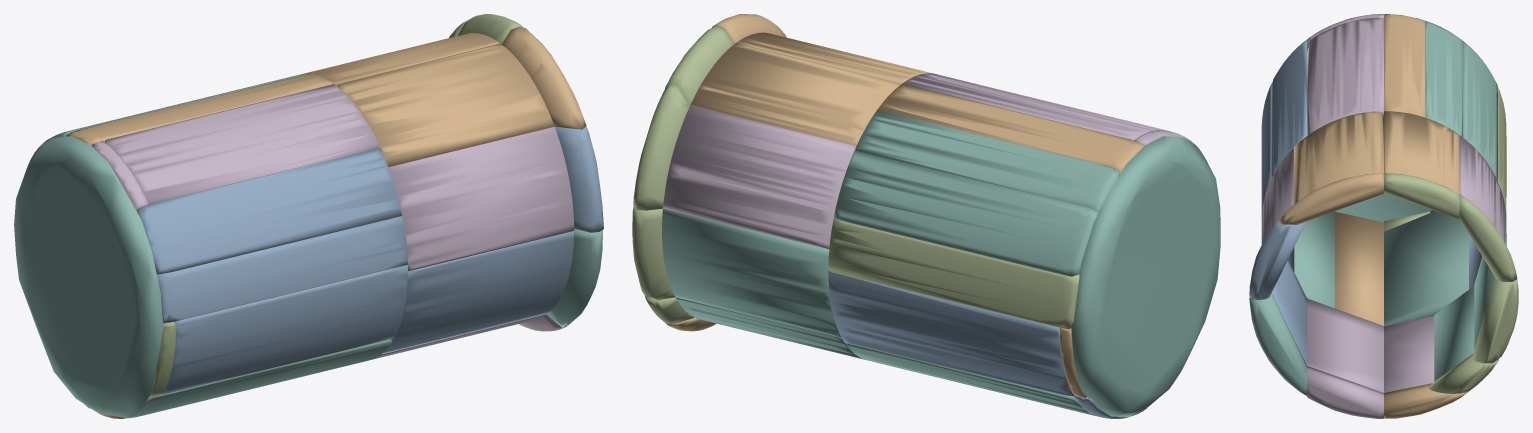
3 views of the same model, side by side, from view 1: azimuth 30°, elevation 25°; view 2: azimuth 150°, elevation 25°; view 3: azimuth 270°, elevation 25° (orthographic). The views are drawn at different scales.
Size of the model in its own units: 1.73 by 1.09 by 1.09.
